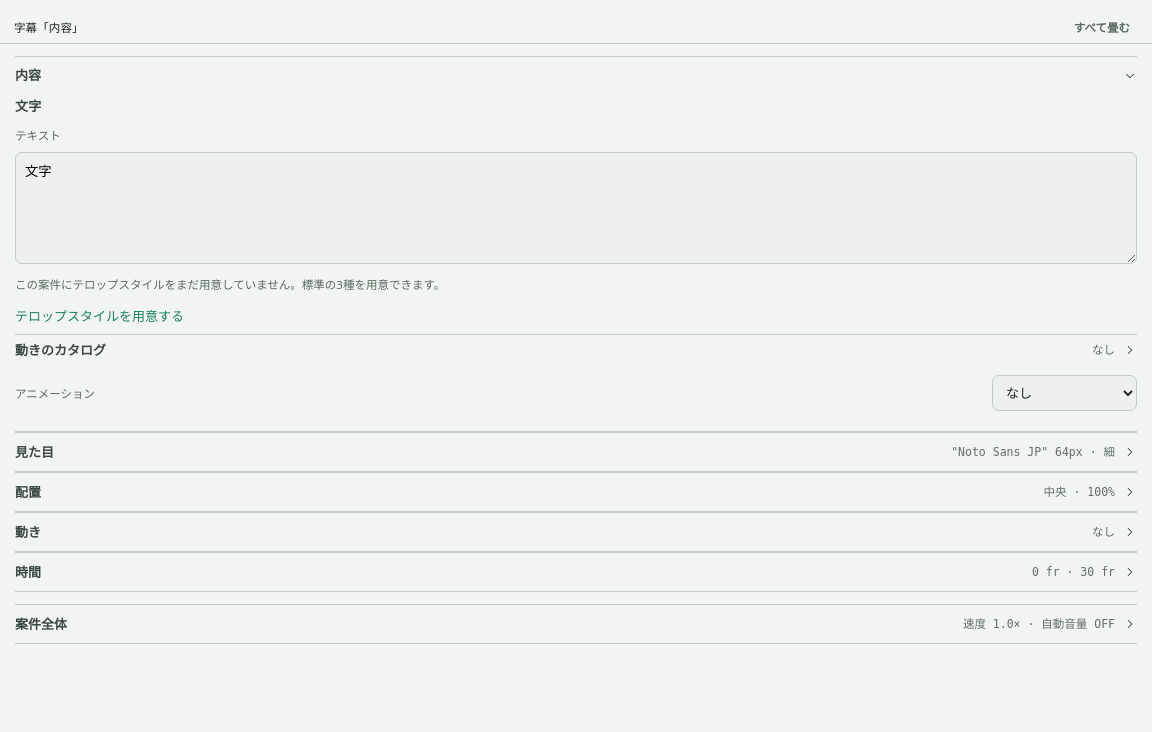
Test: 動きのカタログは畳んだ節で、要約に現在の動きが出て、押すと開く（Task 15）
Click the button "動きのカタログ なし" at (61, 350), box [15,335,1137,365]
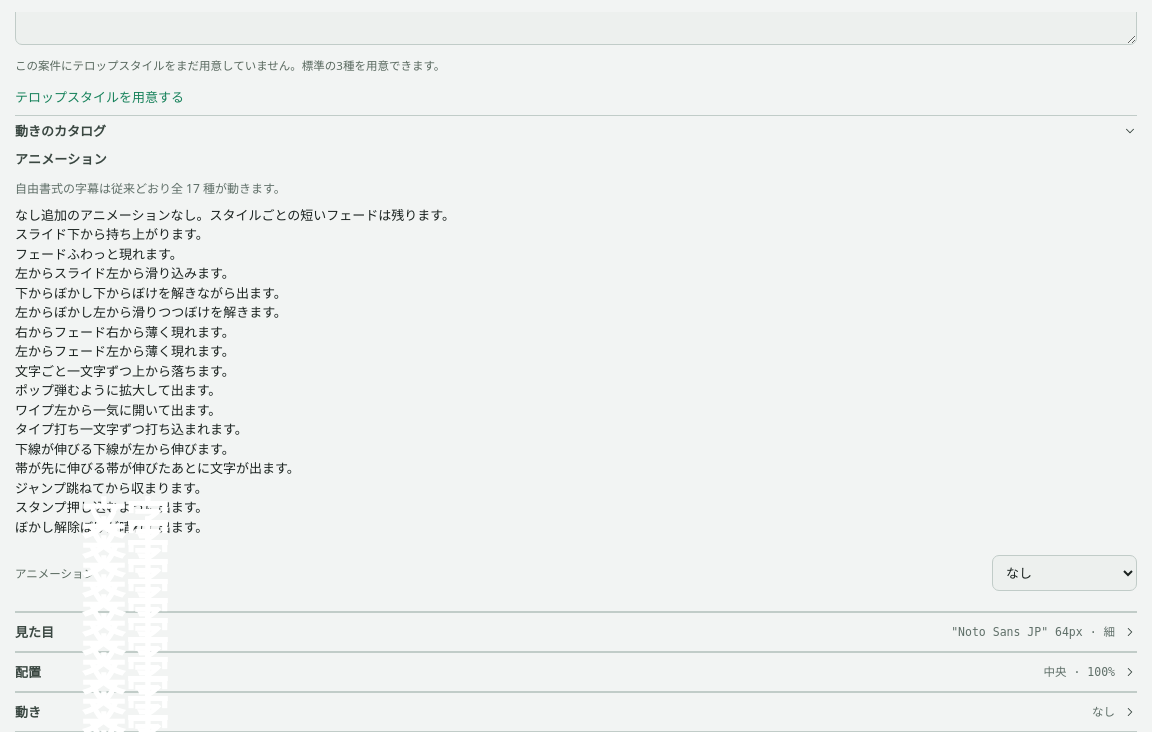
Expected: the button "動きのカタログ" is expanded, [15,116,1137,146]
Expected: the element "アニメーション" is shown, [15,206,455,537]
